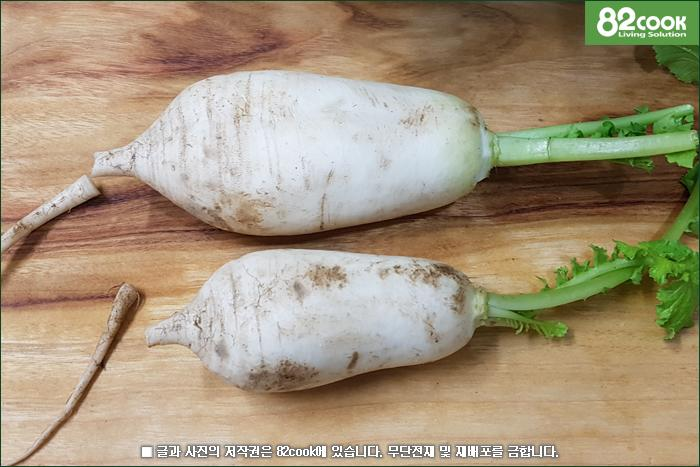radish: (94, 49, 550, 175), (159, 177, 536, 293)
